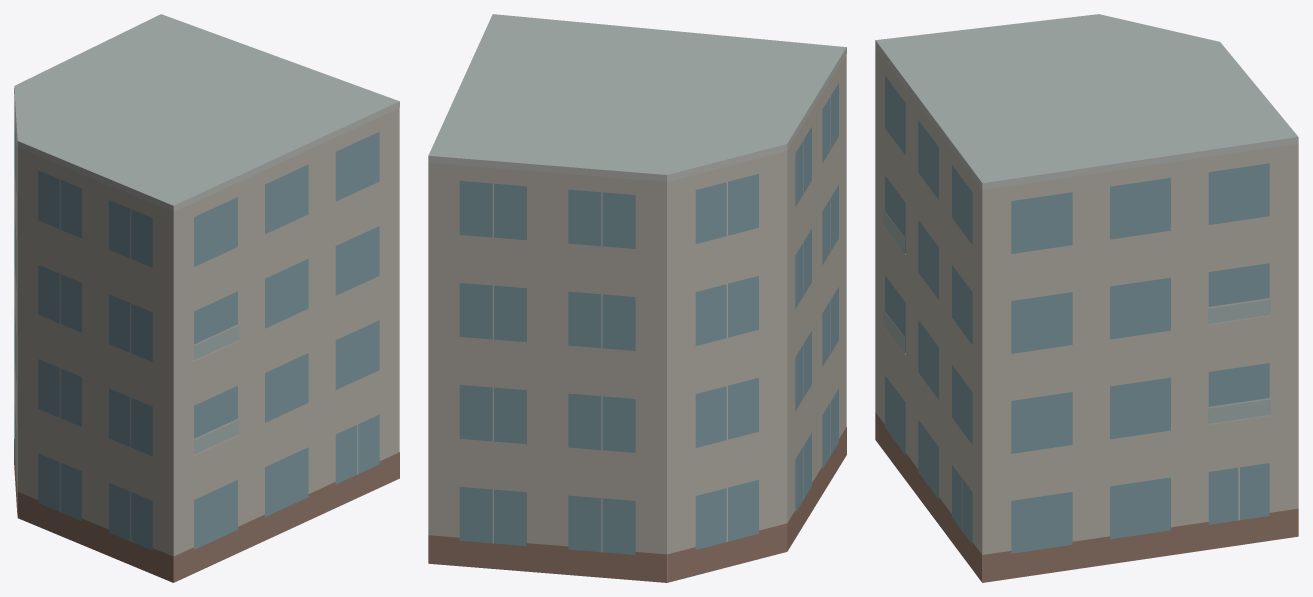
Rendered from survey-upis-32839628.glb.
3 renders of one model, left to right at view 1: azimuth 30°, elevation 25°; view 2: azimuth 150°, elevation 25°; view 3: azimuth 270°, elevation 25°, orthographic. The views are drawn at different scales.
Visible parts, largest first — view 1: survey-upis-32839628.tmp; view 2: survey-upis-32839628.tmp; view 3: survey-upis-32839628.tmp.
Boxes of the visible parts, x1,y1,x2,y2 form: survey-upis-32839628.tmp: [14, 14, 399, 582]; survey-upis-32839628.tmp: [428, 14, 846, 582]; survey-upis-32839628.tmp: [875, 14, 1298, 582].
Size of the model in its own units: 13.02 by 14.33 by 13.76.
